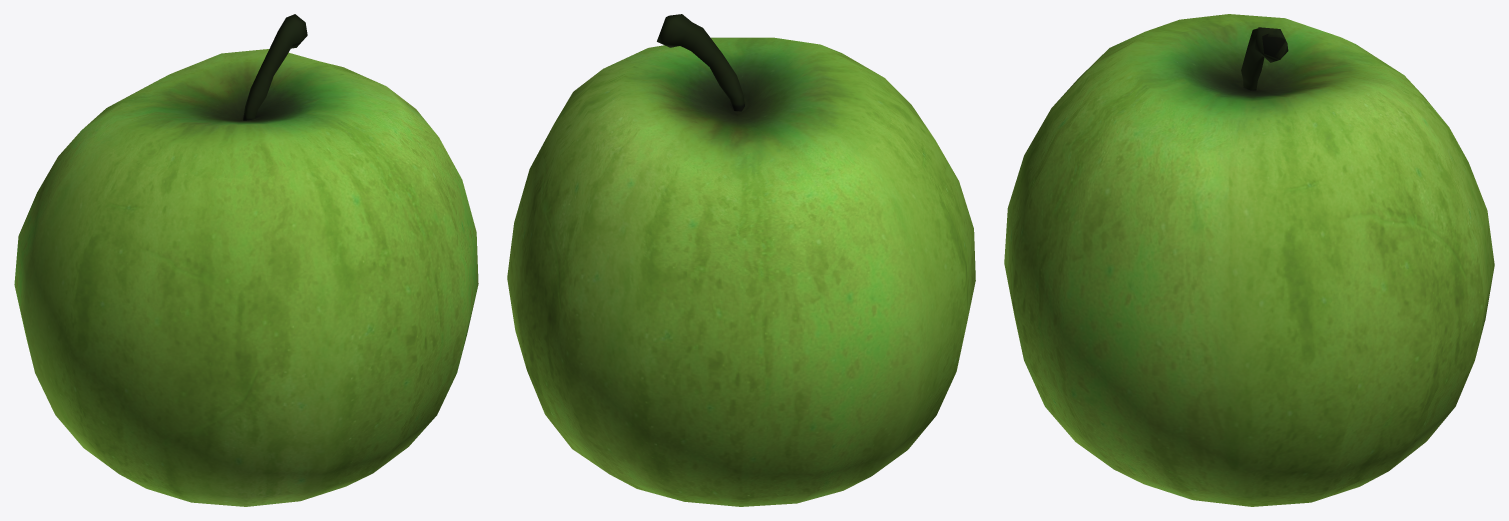
The model's file is AppleGreen.fbx.
3 views of the same model, side by side, from view 1: azimuth 30°, elevation 25°; view 2: azimuth 150°, elevation 25°; view 3: azimuth 270°, elevation 25° (orthographic). The views are drawn at different scales.
Visible parts, largest first — view 1: Default_Layer; view 2: Default_Layer; view 3: Default_Layer.
Part boxes in pixels (x1,y1,x2,y2): Default_Layer: [14, 14, 478, 506]; Default_Layer: [507, 14, 975, 506]; Default_Layer: [1004, 14, 1494, 506].
Bounding box in the file's own units: 25.06 × 25.56 × 24.64.
